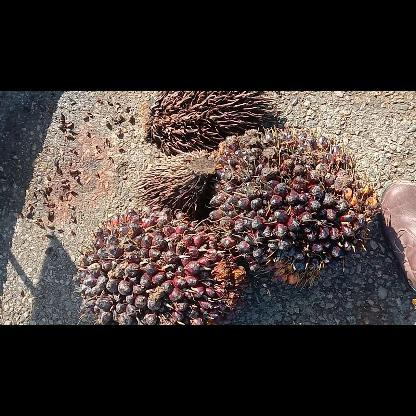Janjang kosong: (141, 90, 281, 154), (131, 150, 215, 212)
TBS mentah: (208, 125, 380, 289), (76, 208, 249, 324)
